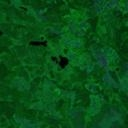alloviz: (50, 54, 69, 69), (28, 39, 49, 47)
